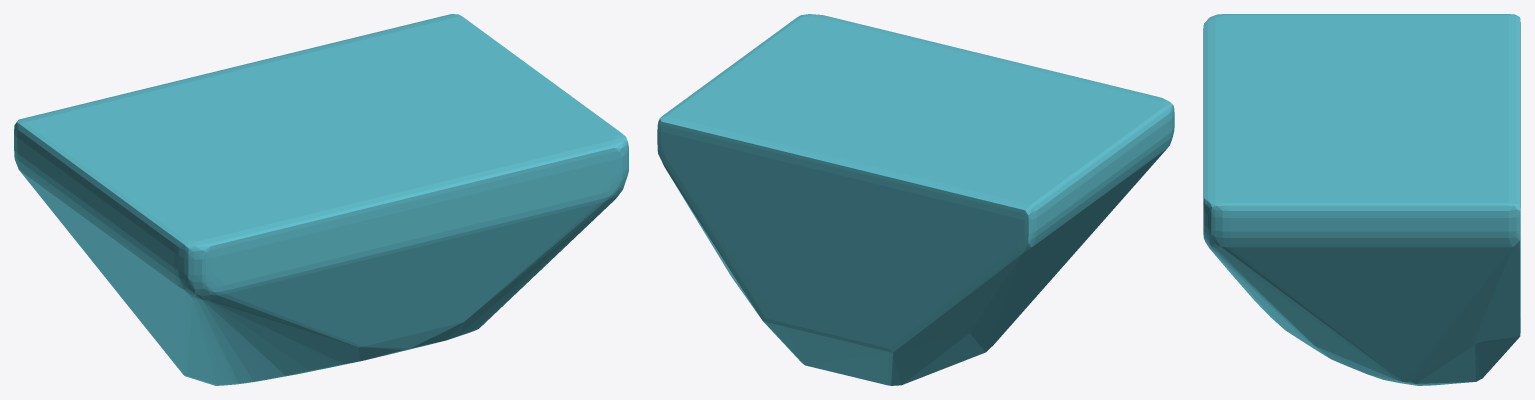
File: torso_link_part_2.obj
The picture shows the model from 3 angles, left to right: view 1: azimuth 30°, elevation 25°; view 2: azimuth 150°, elevation 25°; view 3: azimuth 270°, elevation 25°; orthographic projection. The views are drawn at different scales.
Bounding box in the file's own units: 0.1486 × 0.0882 × 0.1027.
